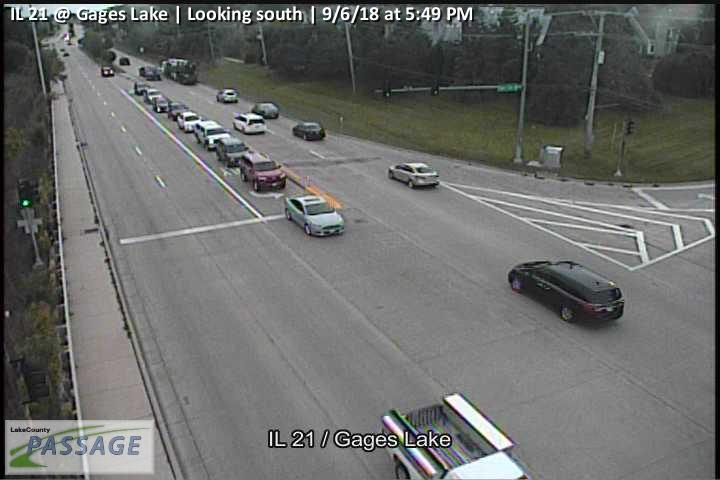SUV: (508, 259, 626, 322), (238, 151, 287, 191), (215, 136, 250, 168), (193, 120, 230, 150), (232, 112, 267, 134), (177, 112, 201, 132), (215, 88, 238, 104), (168, 101, 188, 119), (152, 96, 169, 112), (144, 88, 162, 101), (133, 81, 149, 94), (101, 66, 114, 76)
Sedan: (284, 193, 345, 237), (387, 161, 441, 189), (292, 121, 326, 141), (251, 101, 280, 119), (139, 65, 161, 80)
Truck: (381, 392, 530, 480), (161, 59, 199, 85)
